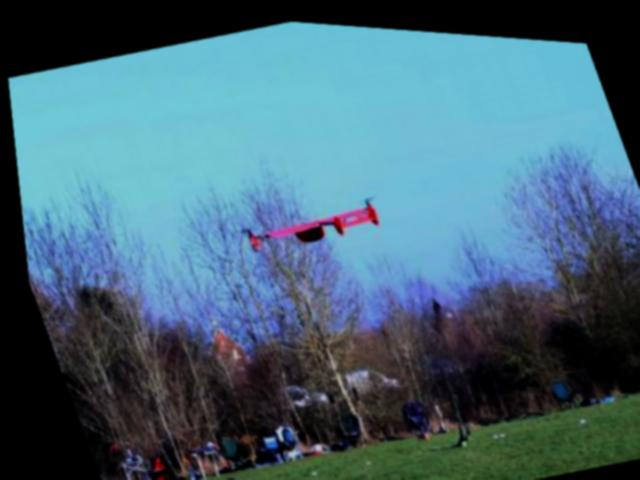uav: (221, 166, 394, 274)
